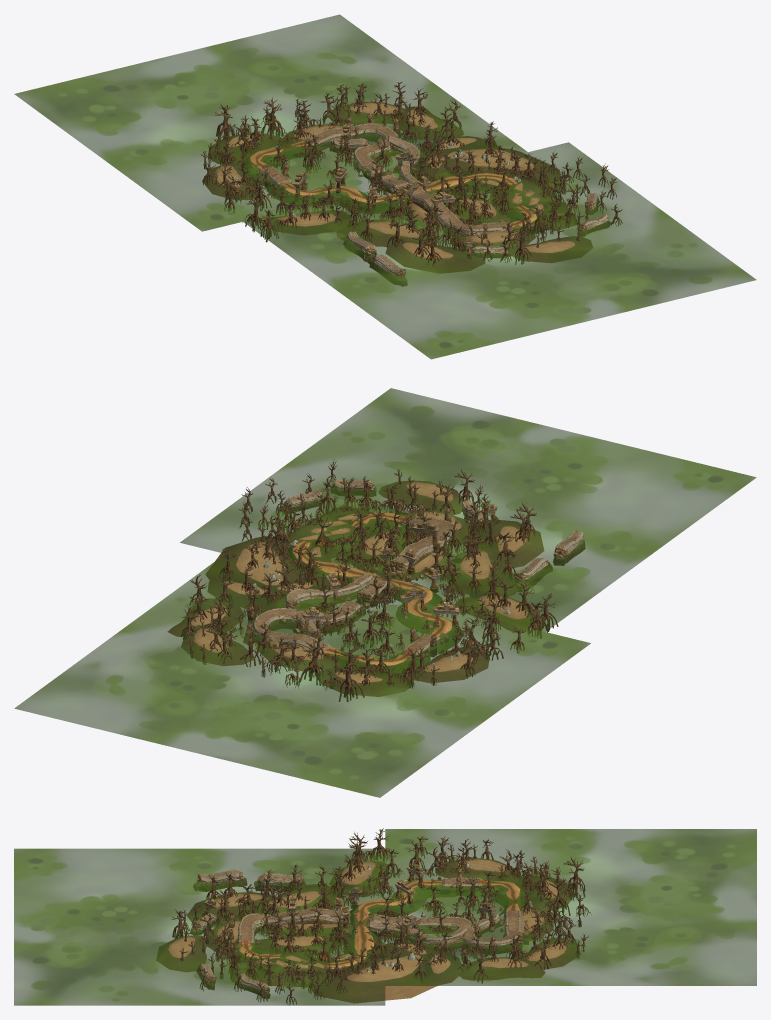
The model's file is marsh.glb.
3 renders of one model, top to bottom at view 1: azimuth 30°, elevation 25°; view 2: azimuth 150°, elevation 25°; view 3: azimuth 270°, elevation 25°, orthographic. The views are drawn at different scales.
Parts seen in each view (by area): view 1: Rocks_LargeA02; view 2: Rocks_LargeA02; view 3: Rocks_LargeA02.
Part boxes in pixels (x1,y1,x2,y2): Rocks_LargeA02: (14,14,756,359); Rocks_LargeA02: (14,388,756,797); Rocks_LargeA02: (14,828,756,1005).
Size of the model in its own units: 1152 by 136 by 2048.
29 materials, 29 textured.
